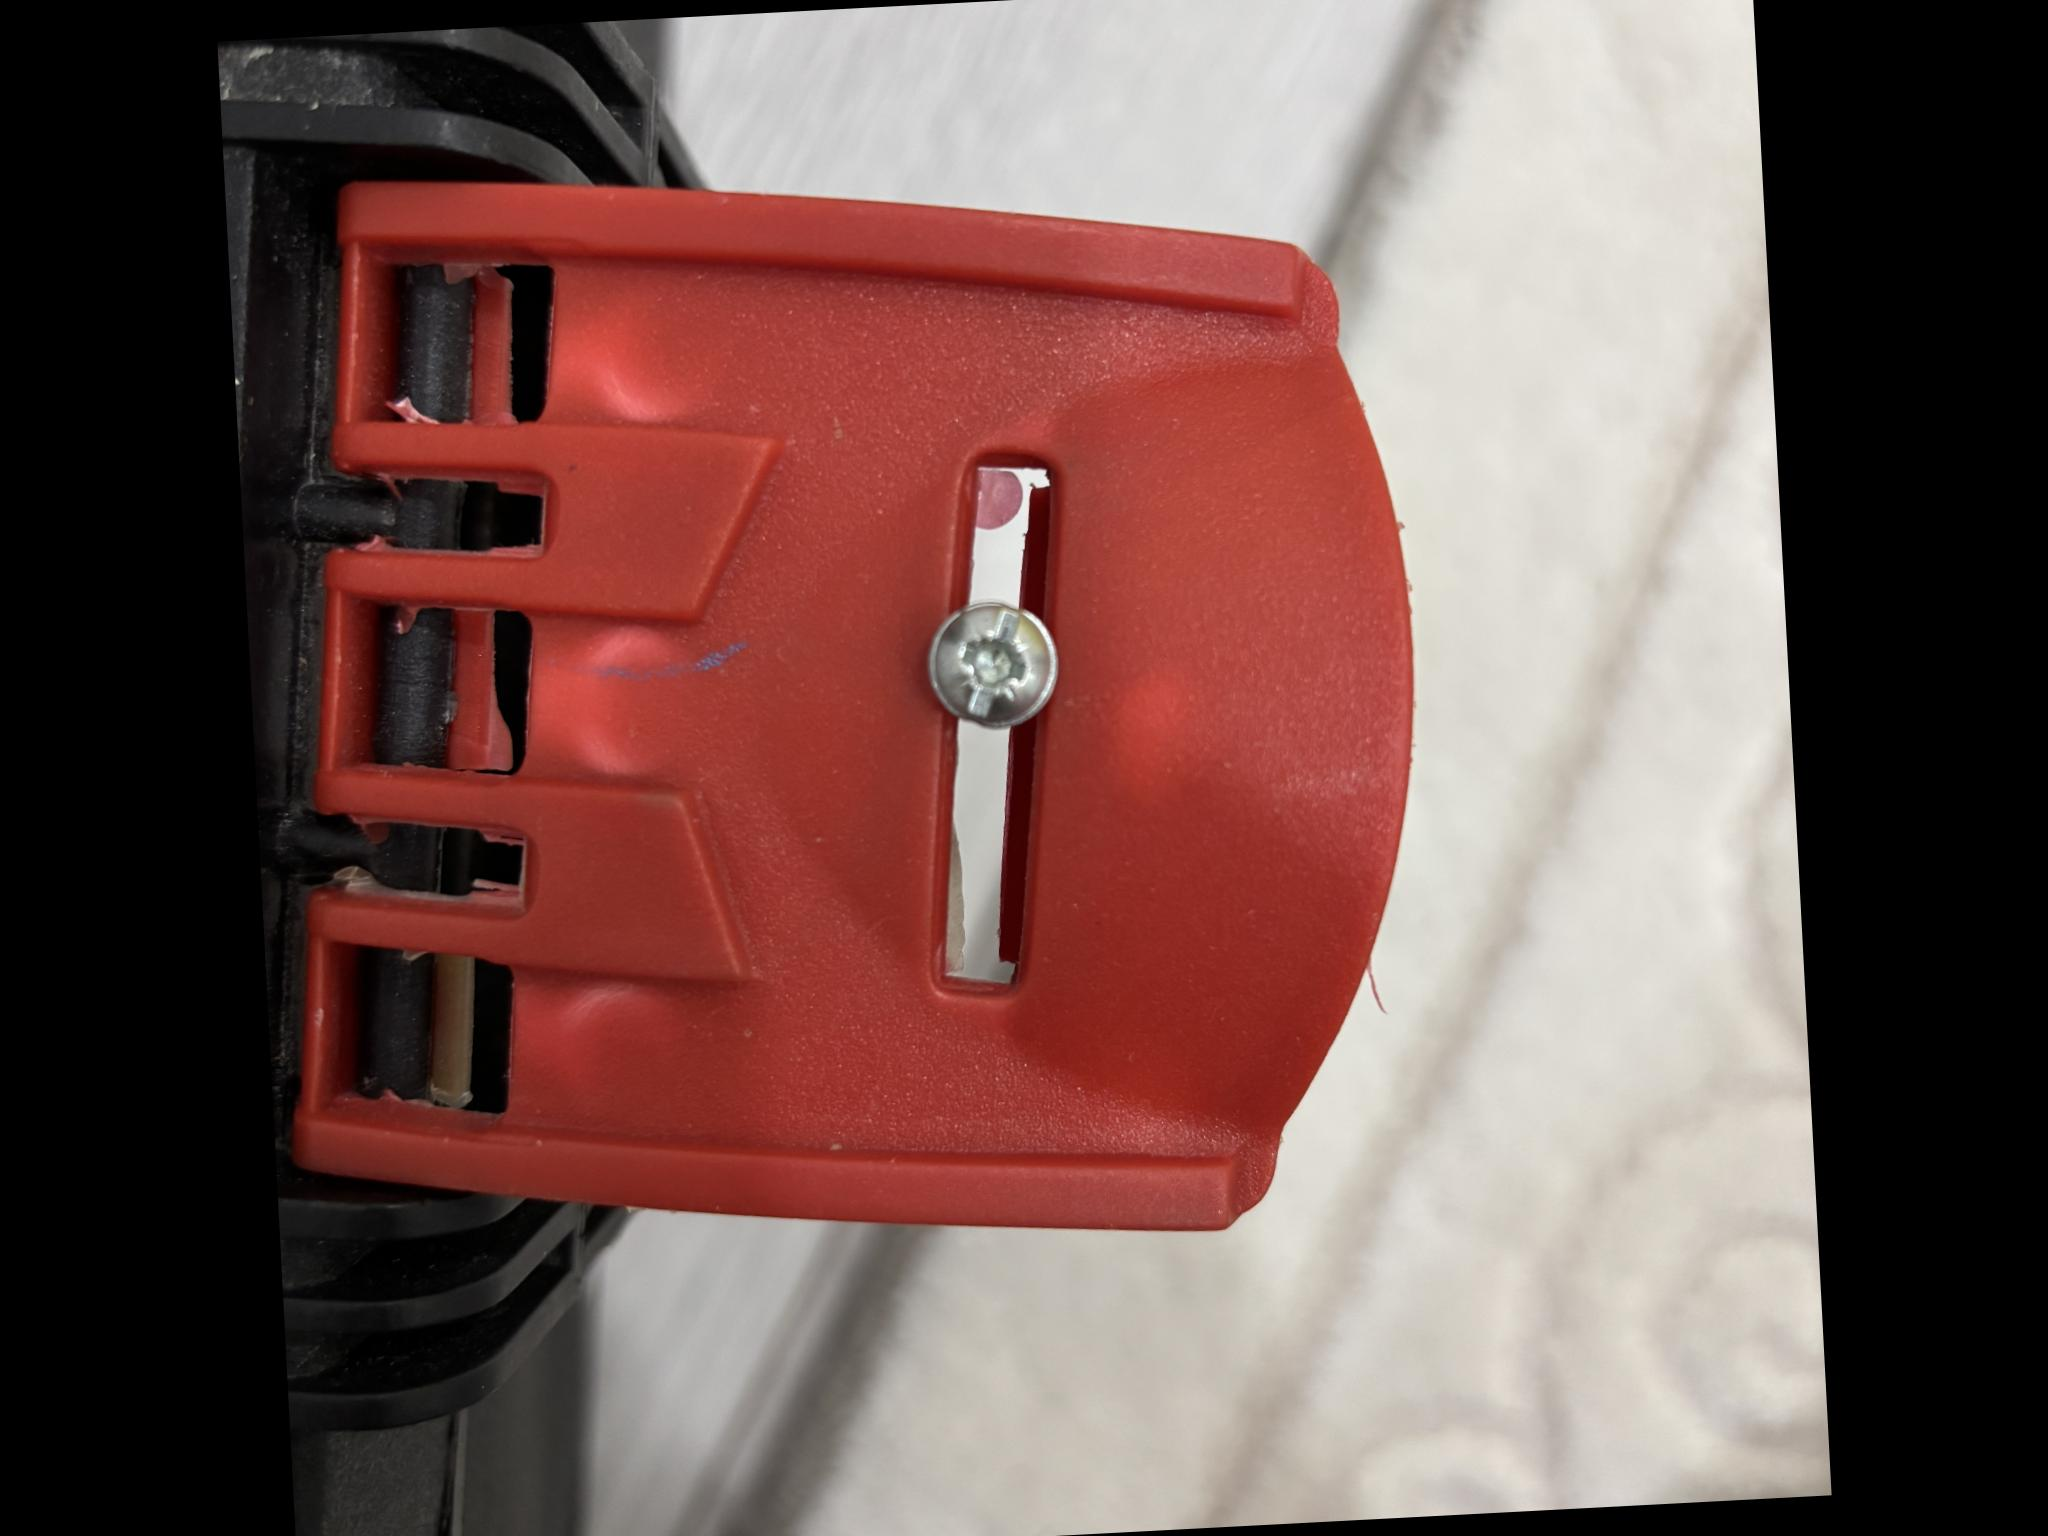PZ: (797, 431, 921, 558)
